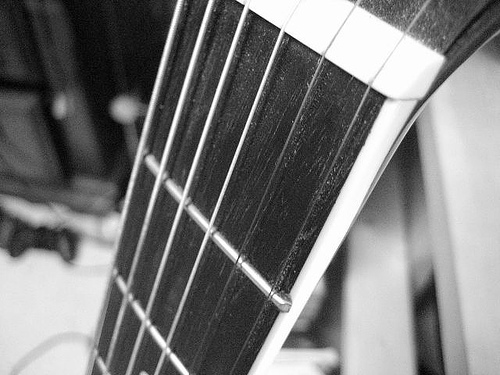guitar: (79, 1, 500, 375)
